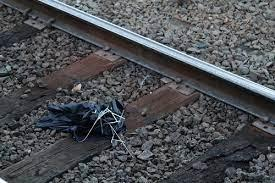mulch: (46, 91, 126, 142)
